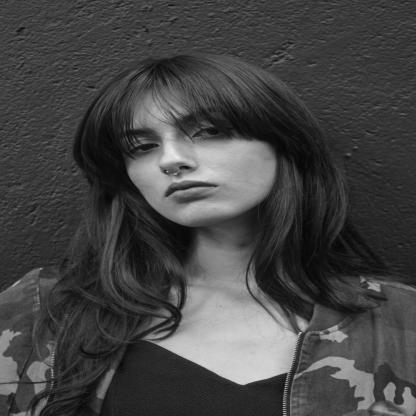Eye: (188, 120, 236, 142), (118, 136, 160, 156)
Mouth: (158, 177, 218, 203)
Nose: (157, 140, 199, 176)
